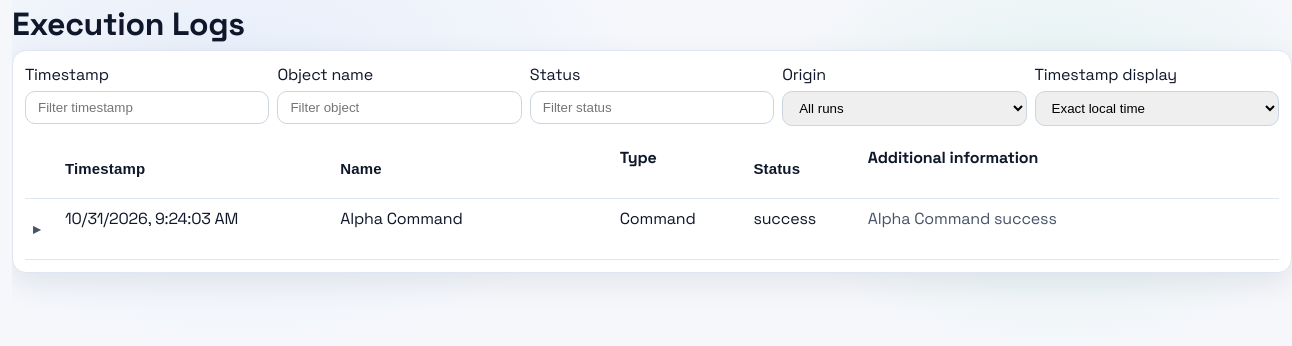
Test: ExecutionLogsPage › shows sub-element detail in plain language without raw JSON blocks
The width and height of the screenshot is (1292, 346).
Expected: the text "Alpha Command" is shown, top-left (332, 199), bottom-right (612, 260)
Click the button named "Expand sub-elements": (37, 229) top-left (33, 207), bottom-right (40, 251)
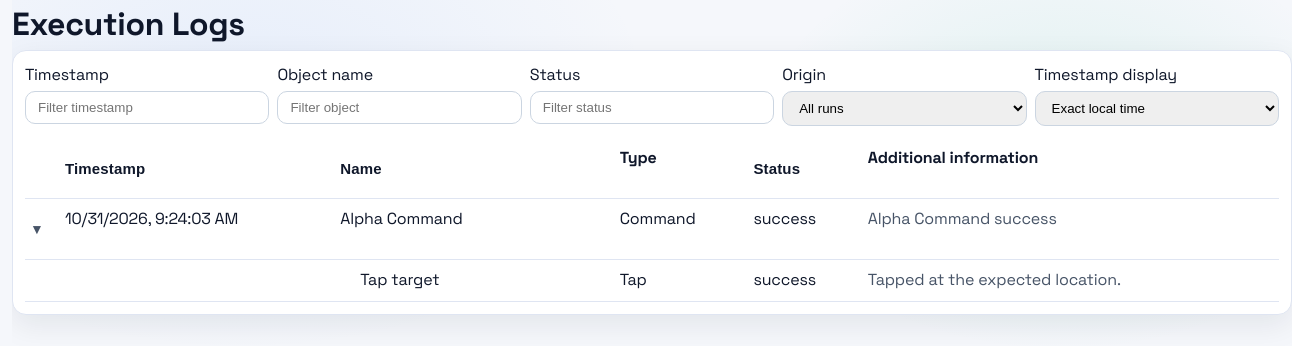
Result: the text "Tap target" is shown at top-left (332, 260), bottom-right (612, 302)
Result: the text "Tapped at the expected location." is shown at top-left (860, 260), bottom-right (1279, 302)
